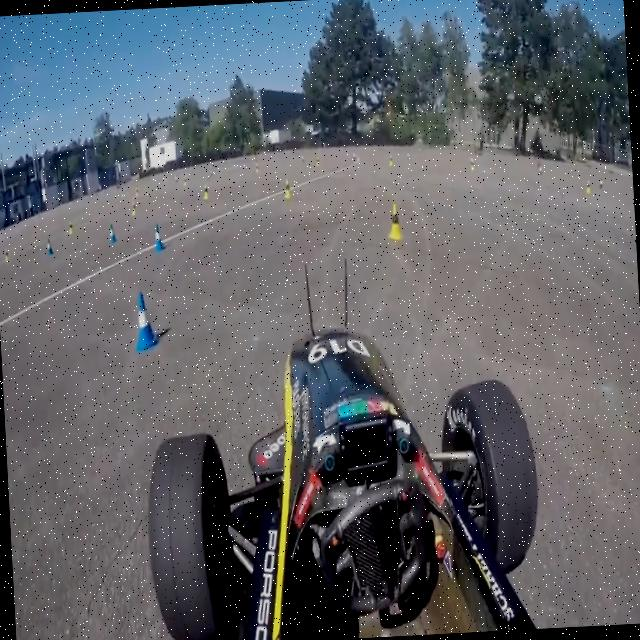blue_cone: (128, 299, 165, 353), (146, 224, 170, 249)
yellow_cone: (380, 198, 407, 262), (278, 170, 298, 214)
